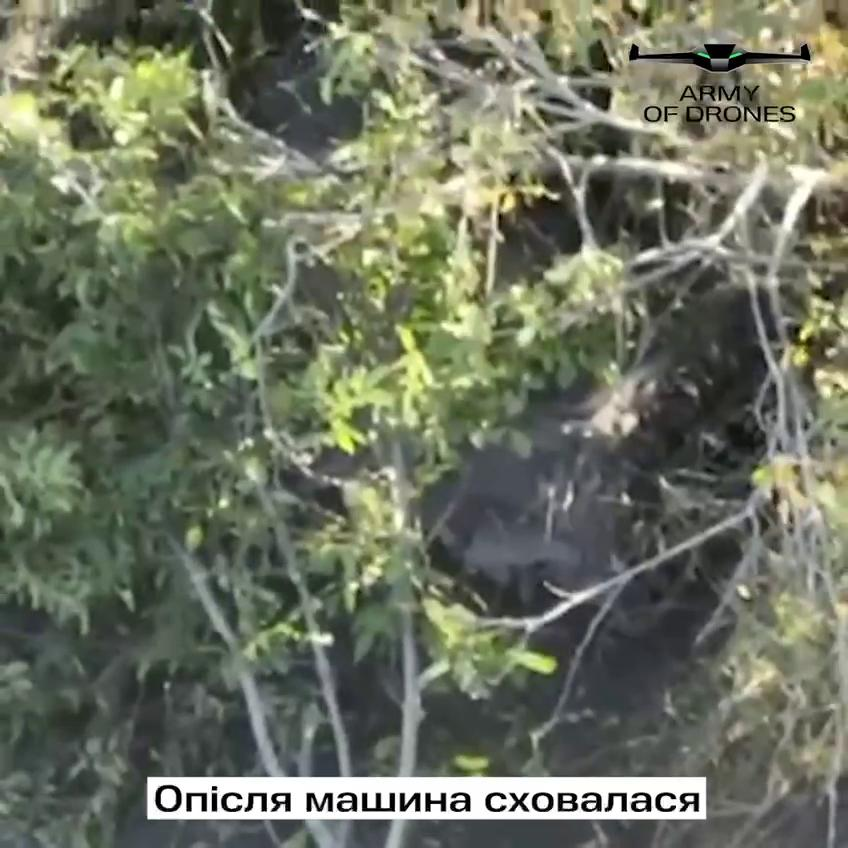tank: (388, 356, 710, 669)
